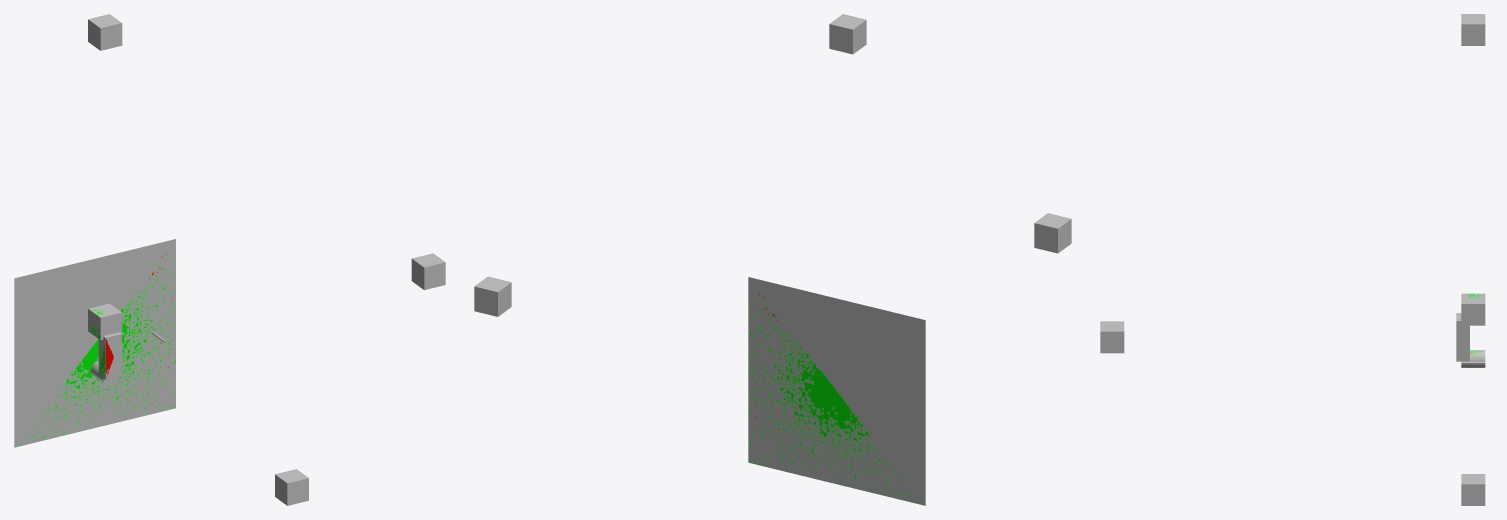
The model's file is 2bounce_test_geo_textured.obj.
3 views of the same model, side by side, from view 1: azimuth 30°, elevation 25°; view 2: azimuth 150°, elevation 25°; view 3: azimuth 270°, elevation 25° (orthographic). The views are drawn at different scales.
Parts seen in each view (by area): view 1: Plane, Y_Cube, X_Cube.001, Z_Cube.002, Cube.001_Cube.008, Cube_Cube.007; view 2: Plane, Y_Cube, X_Cube.001, Z_Cube.002; view 3: Cube_Cube.007, Z_Cube.002, Y_Cube, X_Cube.001, Cube.001_Cube.008.
Part boxes in pixels (x1,y1,x2,y2): Plane: (14, 239, 175, 447); Y_Cube: (88, 14, 122, 50); X_Cube.001: (411, 253, 445, 290); Z_Cube.002: (275, 469, 308, 505); Cube.001_Cube.008: (98, 332, 121, 380); Cube_Cube.007: (88, 303, 122, 340); Plane: (748, 277, 925, 505); Y_Cube: (829, 14, 866, 54); X_Cube.001: (474, 276, 511, 316); Z_Cube.002: (1034, 213, 1071, 253); Cube_Cube.007: (1461, 293, 1485, 325); Z_Cube.002: (1100, 321, 1124, 353); Y_Cube: (1461, 14, 1485, 45); X_Cube.001: (1461, 474, 1485, 505); Cube.001_Cube.008: (1456, 313, 1469, 361).
Bounding box in the file's own units: 38.5 × 36.69 × 32.61.
8 materials, 8 textured.
